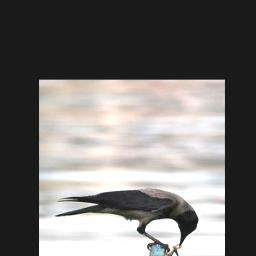Crow: (54, 187, 199, 252)
